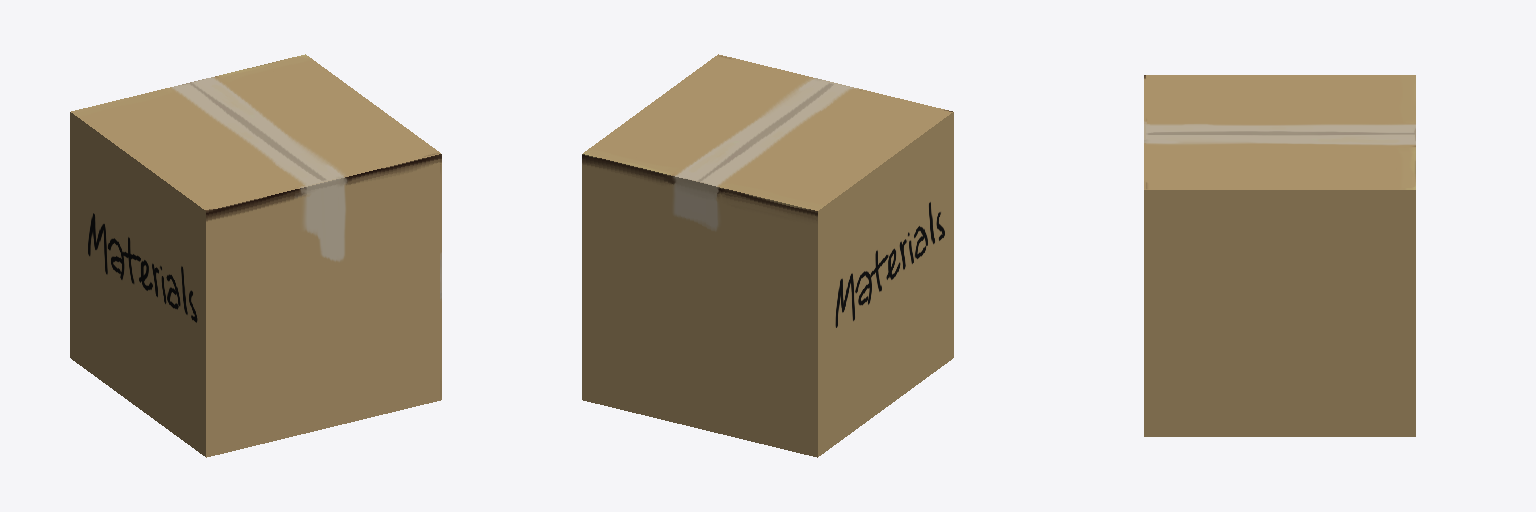
3 views of the same model, side by side, from view 1: azimuth 30°, elevation 25°; view 2: azimuth 150°, elevation 25°; view 3: azimuth 270°, elevation 25° (orthographic).
Parts seen in each view (by area): view 1: Cube; view 2: Cube; view 3: Cube.
Boxes of the visible parts, x1,y1,x2,y2 form: Cube: [70, 54, 441, 457]; Cube: [582, 54, 953, 457]; Cube: [1144, 75, 1415, 436].
Bounding box in the file's own units: 2 × 2 × 2.
1 materials, 1 textured.